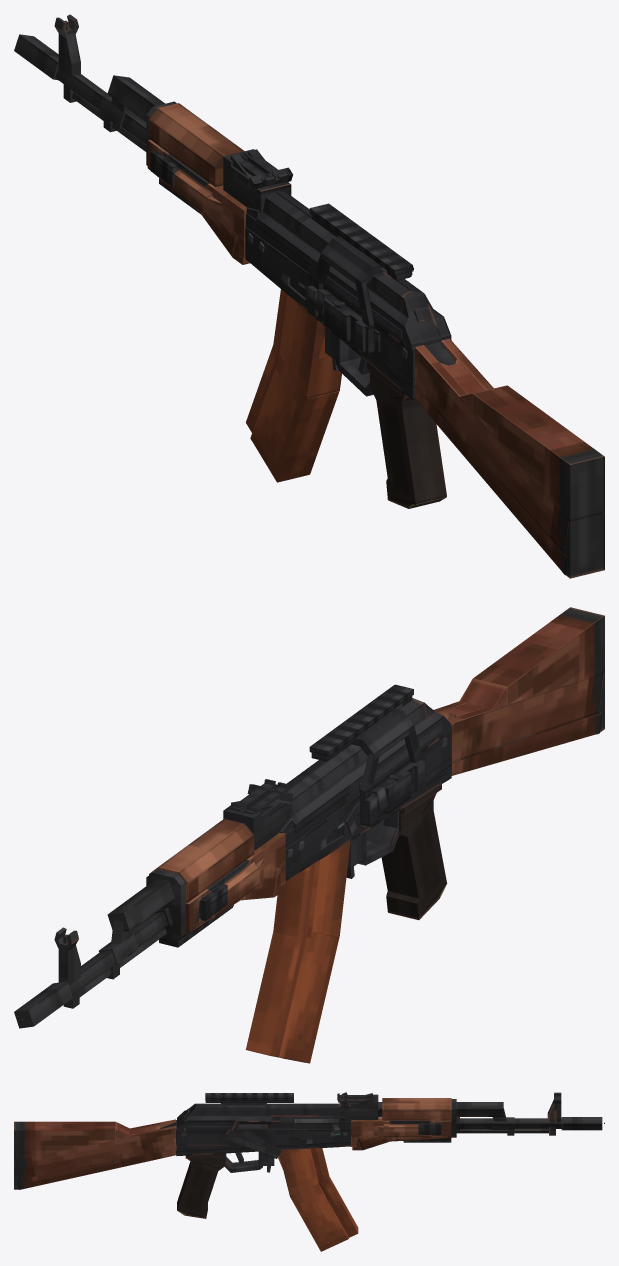
3 renders of one model, top to bottom at view 1: azimuth 30°, elevation 25°; view 2: azimuth 150°, elevation 25°; view 3: azimuth 270°, elevation 25°, orthographic. The views are drawn at different scales.
Parts seen in each view (by area): view 1: gun, magazine, ak74_guard, scopemount, ak74_railedguard; view 2: gun, magazine, ak74_guard, scopemount, ak74_railedguard; view 3: gun, magazine, ak74_guard, action, scopemount, switch, ak74_railedguard.
Part boxes in pixels (left/top/right/bottom): gun: left=14, top=14, right=604, bottom=578; magazine: left=246, top=289, right=341, bottom=482; ak74_guard: left=147, top=103, right=249, bottom=264; scopemount: left=307, top=203, right=413, bottom=353; ak74_railedguard: left=147, top=140, right=209, bottom=213; gun: left=14, top=607, right=604, bottom=1028; magazine: left=245, top=841, right=350, bottom=1063; ak74_guard: left=149, top=818, right=285, bottom=938; scopemount: left=309, top=684, right=424, bottom=826; ak74_railedguard: left=159, top=860, right=248, bottom=947; gun: left=14, top=1092, right=602, bottom=1218; magazine: left=277, top=1148, right=358, bottom=1251; ak74_guard: left=351, top=1098, right=451, bottom=1150; action: left=266, top=1115, right=340, bottom=1135; scopemount: left=205, top=1093, right=293, bottom=1104; switch: left=223, top=1129, right=281, bottom=1158; ak74_railedguard: left=352, top=1121, right=451, bottom=1148.
Size of the model in its own units: 53.17 by 204 by 707.
